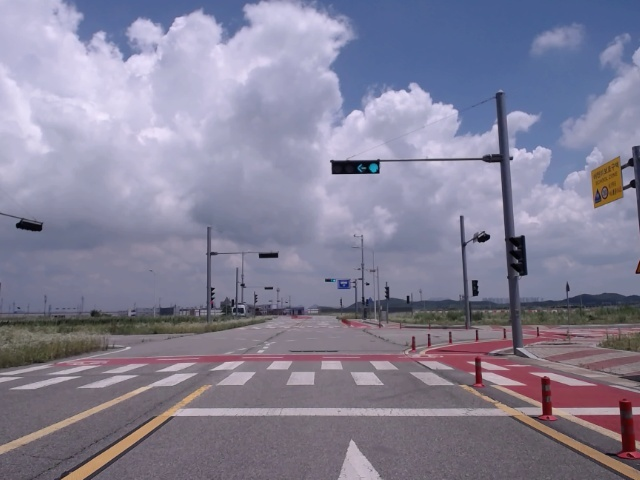all_green_4: (330, 160, 379, 175)
